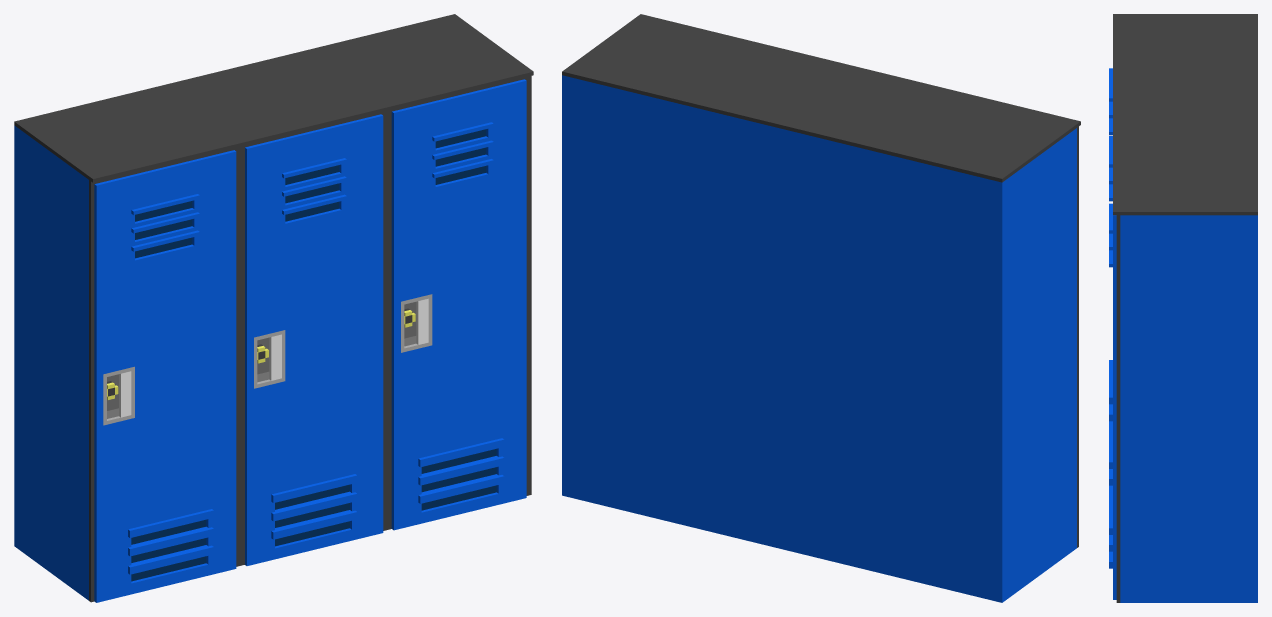
Rendered from стена-3.obj.
3 renders of one model, left to right at view 1: azimuth 30°, elevation 25°; view 2: azimuth 150°, elevation 25°; view 3: azimuth 270°, elevation 25°, orthographic. The views are drawn at different scales.
Size of the model in its own units: 12.6 by 11.6 by 4.
1 material, 1 textured.
